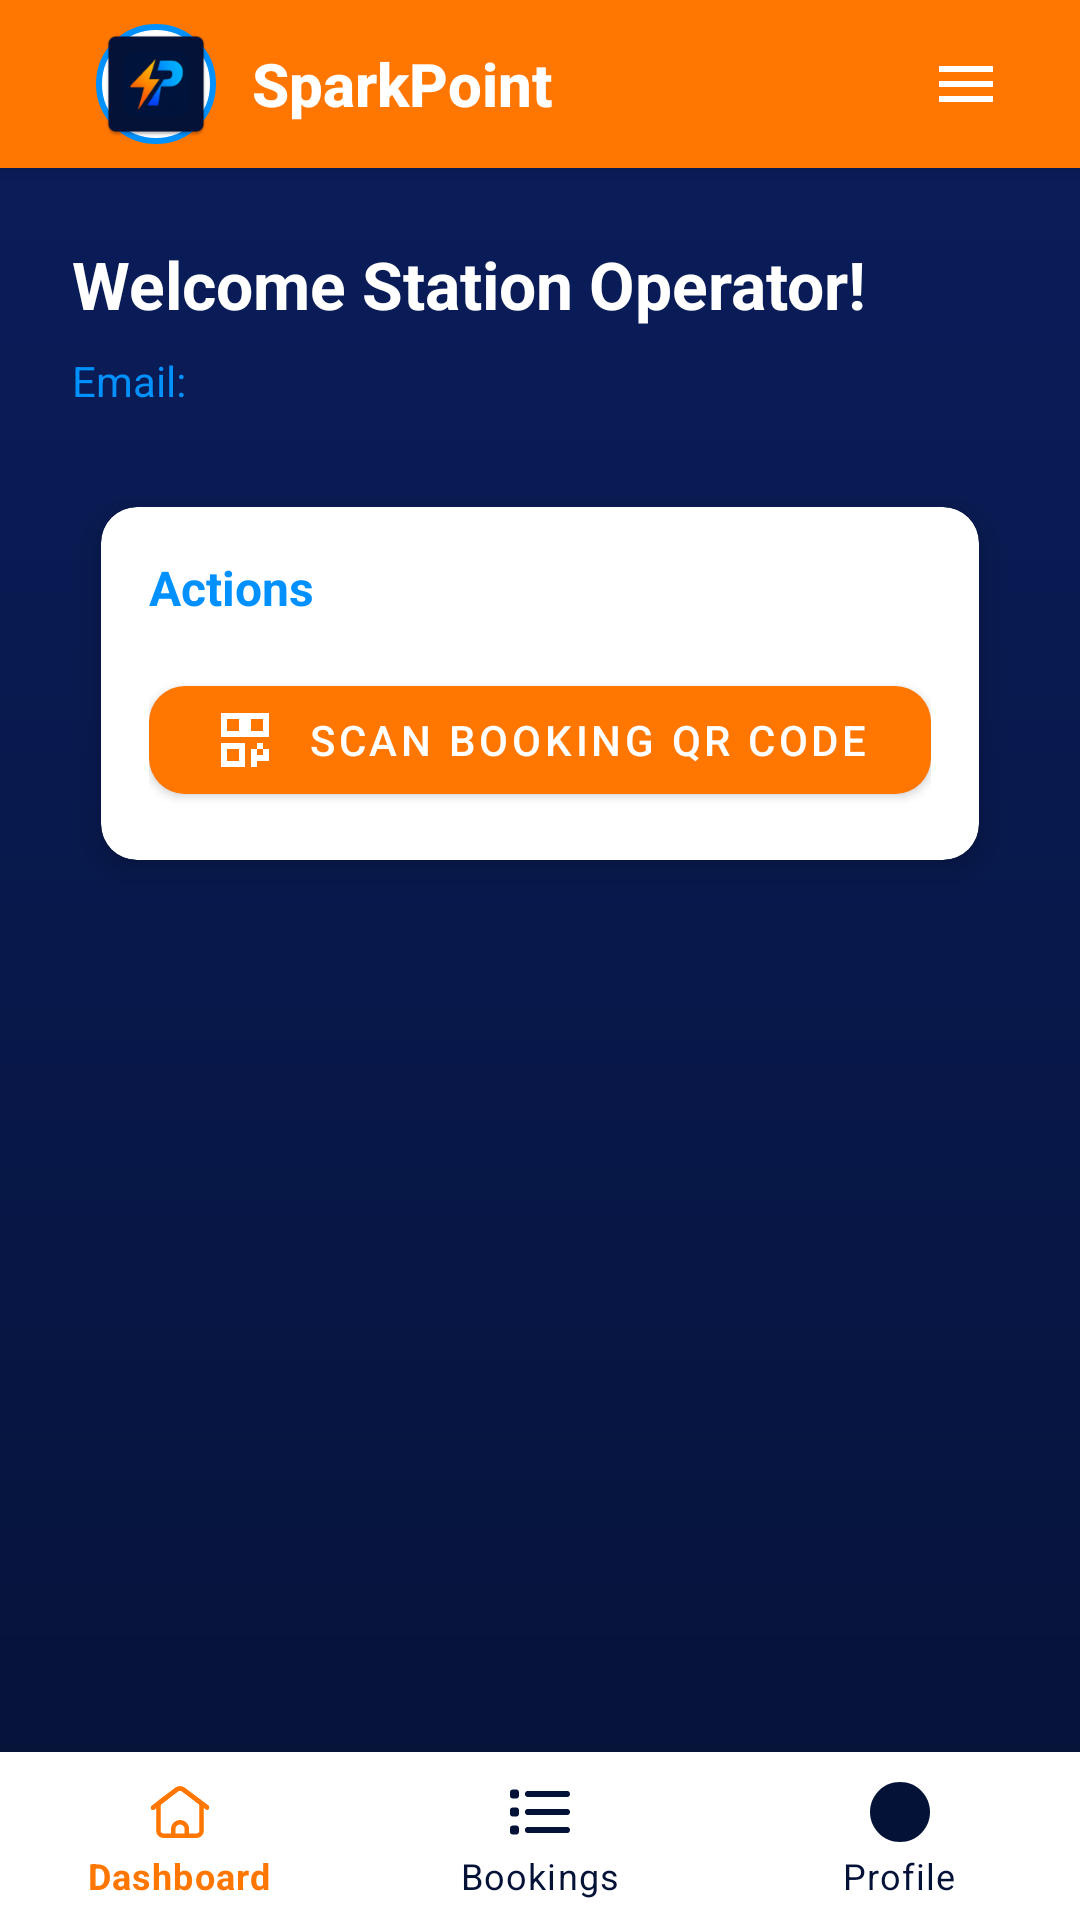

Named icons in this screenshot (1080 × 1920) and their bounding boxes, Rect(x1, y1, x2, y2):
Menu: Rect(939, 66, 993, 102)
